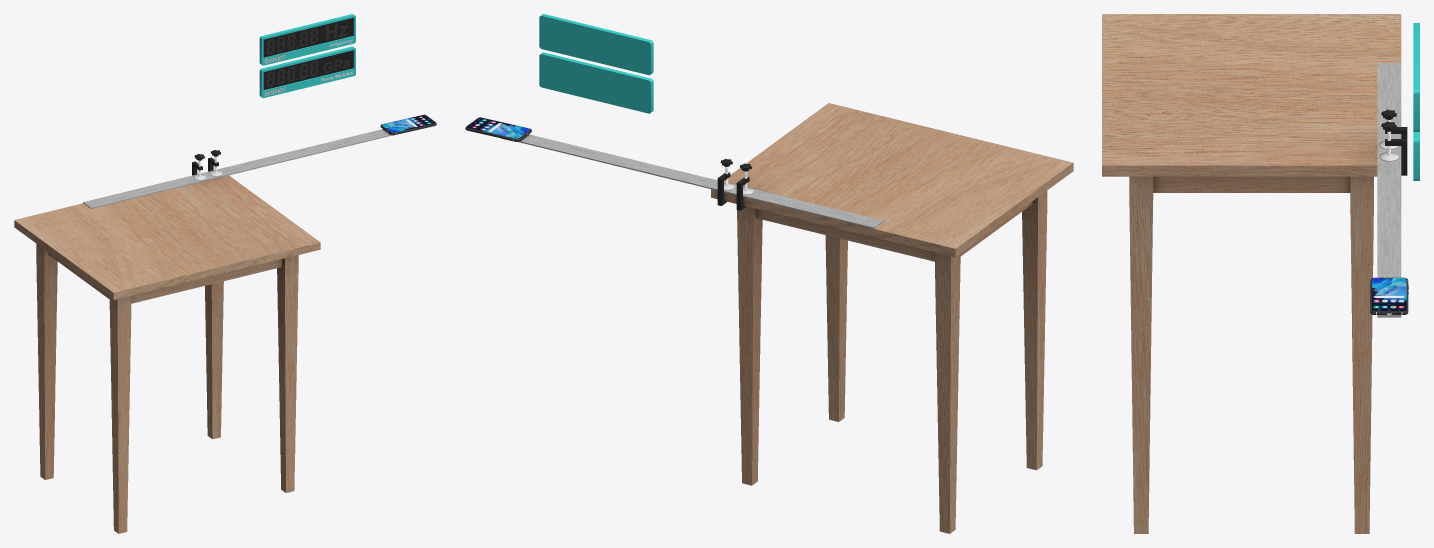
File: Aluminum_bar_40cm_60cm.glb
3 renders of one model, left to right at view 1: azimuth 30°, elevation 25°; view 2: azimuth 150°, elevation 25°; view 3: azimuth 270°, elevation 25°, orthographic. The views are drawn at different scales.
Parts seen in each view (by area): view 1: MESA, PASAMANO-ALUMINIO_40_60, CAJA DISPLAY GPa, CAJA DISPLAY Hz, SMARTPHONE_40_60; view 2: MESA, CAJA DISPLAY Hz, CAJA DISPLAY GPa, PASAMANO-ALUMINIO_40_60, SMARTPHONE_40_60; view 3: MESA, PASAMANO-ALUMINIO_40_60, SMARTPHONE_40_60, CAJA DISPLAY Hz.
Part boxes in pixels (x1,y1,x2,y2): MESA: [14, 175, 320, 533]; PASAMANO-ALUMINIO_40_60: [83, 129, 392, 208]; CAJA DISPLAY GPa: [259, 46, 355, 98]; CAJA DISPLAY Hz: [259, 14, 355, 65]; SMARTPHONE_40_60: [380, 114, 436, 135]; MESA: [711, 103, 1073, 533]; CAJA DISPLAY Hz: [539, 14, 653, 75]; CAJA DISPLAY GPa: [539, 52, 653, 113]; PASAMANO-ALUMINIO_40_60: [518, 134, 883, 228]; SMARTPHONE_40_60: [465, 117, 531, 141]; MESA: [1102, 14, 1401, 533]; PASAMANO-ALUMINIO_40_60: [1377, 63, 1401, 317]; SMARTPHONE_40_60: [1370, 277, 1408, 314]; CAJA DISPLAY Hz: [1413, 23, 1419, 131].
Size of the model in its own units: 1.2 by 1.03 by 0.531.
94 materials, 5 textured.
